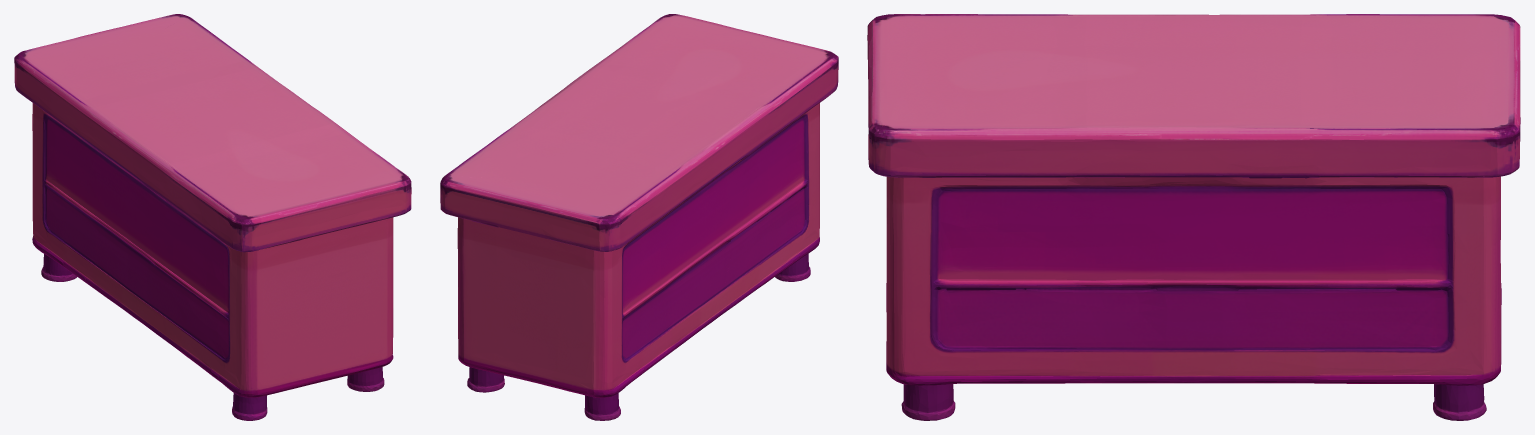
The picture shows the model from 3 angles, left to right: view 1: azimuth 30°, elevation 25°; view 2: azimuth 150°, elevation 25°; view 3: azimuth 270°, elevation 25°; orthographic projection. The views are drawn at different scales.
Parts seen in each view (by area): view 1: world; view 2: world; view 3: world.
Boxes of the visible parts, x1,y1,x2,y2 form: world: [14, 14, 411, 420]; world: [440, 14, 838, 420]; world: [867, 14, 1520, 420].
Bounding box in the file's own units: 44.18 × 50.73 × 99.89.
1 material, 1 textured.
